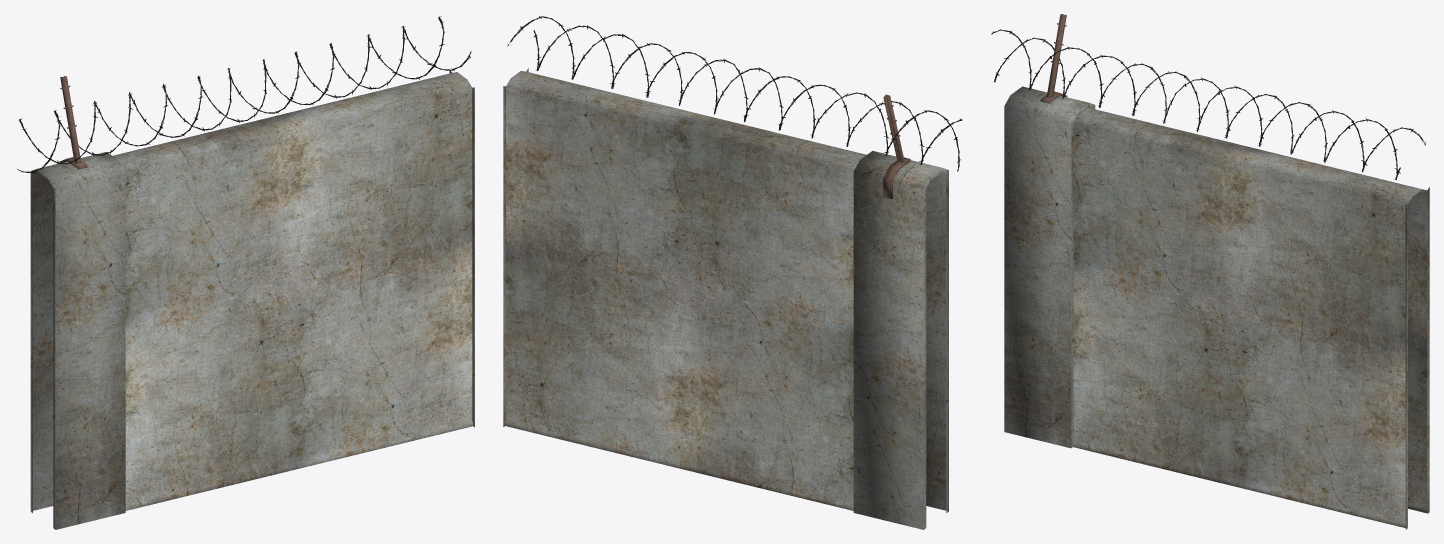
Rendered from PrisonWall.fbx.
The picture shows the model from 3 angles, left to right: view 1: azimuth 30°, elevation 25°; view 2: azimuth 150°, elevation 25°; view 3: azimuth 330°, elevation 25°; orthographic projection. The views are drawn at different scales.
Parts seen in each view (by area): view 1: OutsideWall.005; view 2: OutsideWall.005; view 3: OutsideWall.005.
Part boxes in pixels (bbox=[...]): OutsideWall.005: bbox=[17, 16, 474, 529]; OutsideWall.005: bbox=[503, 16, 962, 529]; OutsideWall.005: bbox=[991, 14, 1429, 529].
Size of the model in its own units: 635 by 582 by 76.65.
